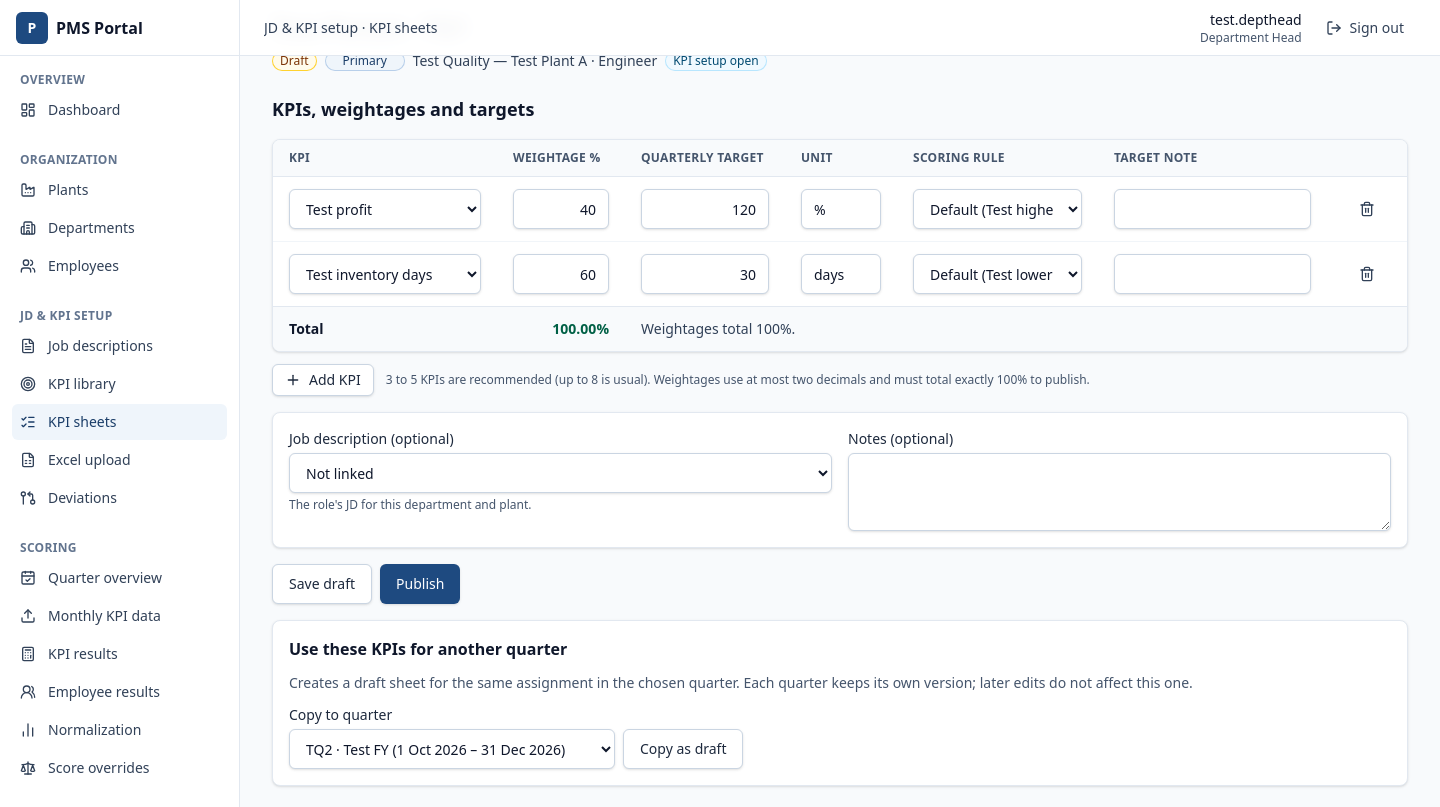
Test case: quarterly KPI sheet › copies a sheet to another open quarter
This screenshot has width=1440, height=807.
(page scrolled)
Click the button "Copy as draft".
click(683, 749)  # box left=623, top=729, right=744, bottom=769
(page scrolled)
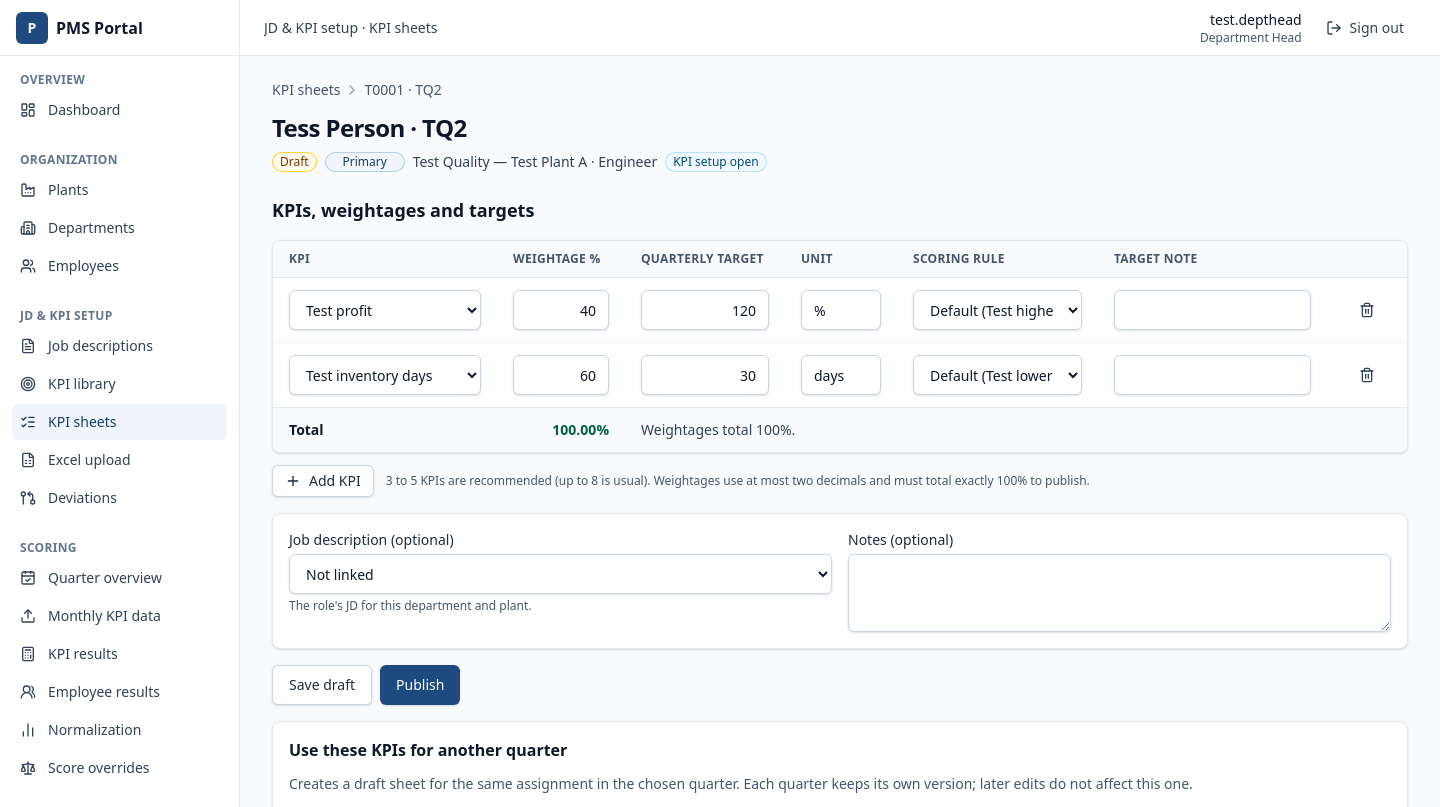
Check: the heading "Tess Person · TQ2" is shown, box left=272, top=111, right=467, bottom=144
